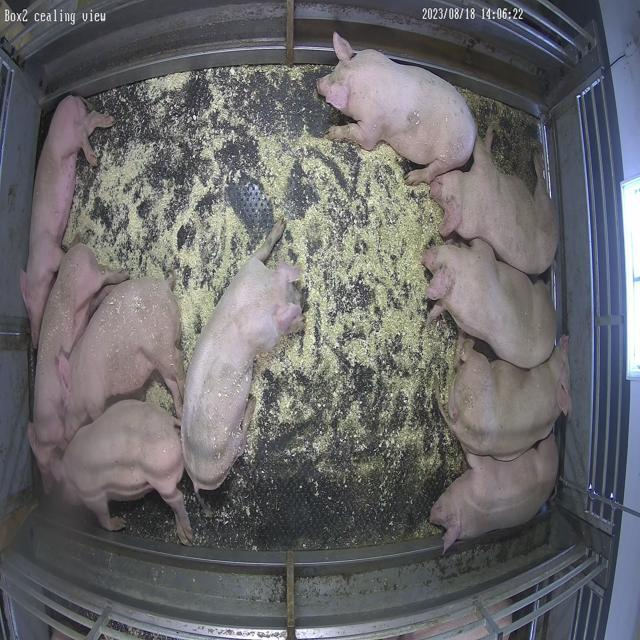Dirt: (460, 88, 543, 188)
Pig: (181, 219, 303, 494), (318, 32, 478, 184), (20, 95, 114, 346), (30, 243, 128, 474), (59, 277, 184, 440), (61, 400, 192, 546), (431, 128, 560, 275), (423, 239, 556, 368), (450, 334, 570, 461), (431, 435, 560, 552)
